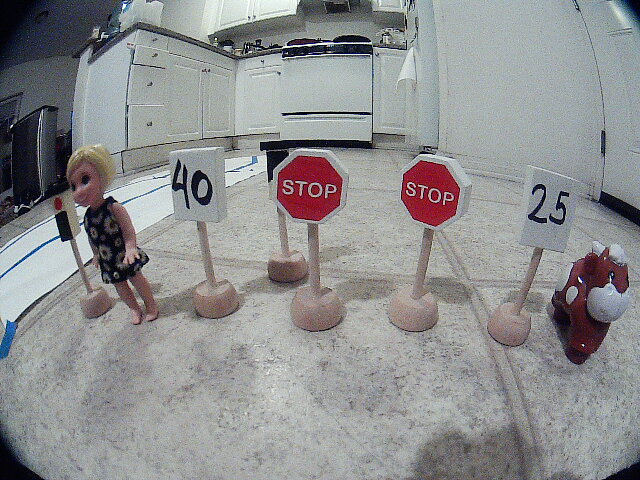Cow: (557, 243, 632, 378)
Person: (60, 149, 175, 325)
Red Traffic Light: (49, 178, 84, 242)
Speed Limit 25: (518, 160, 577, 256)
Speed Limit 40: (164, 144, 231, 225)
Stop Sign: (263, 134, 366, 241), (391, 145, 483, 242)
